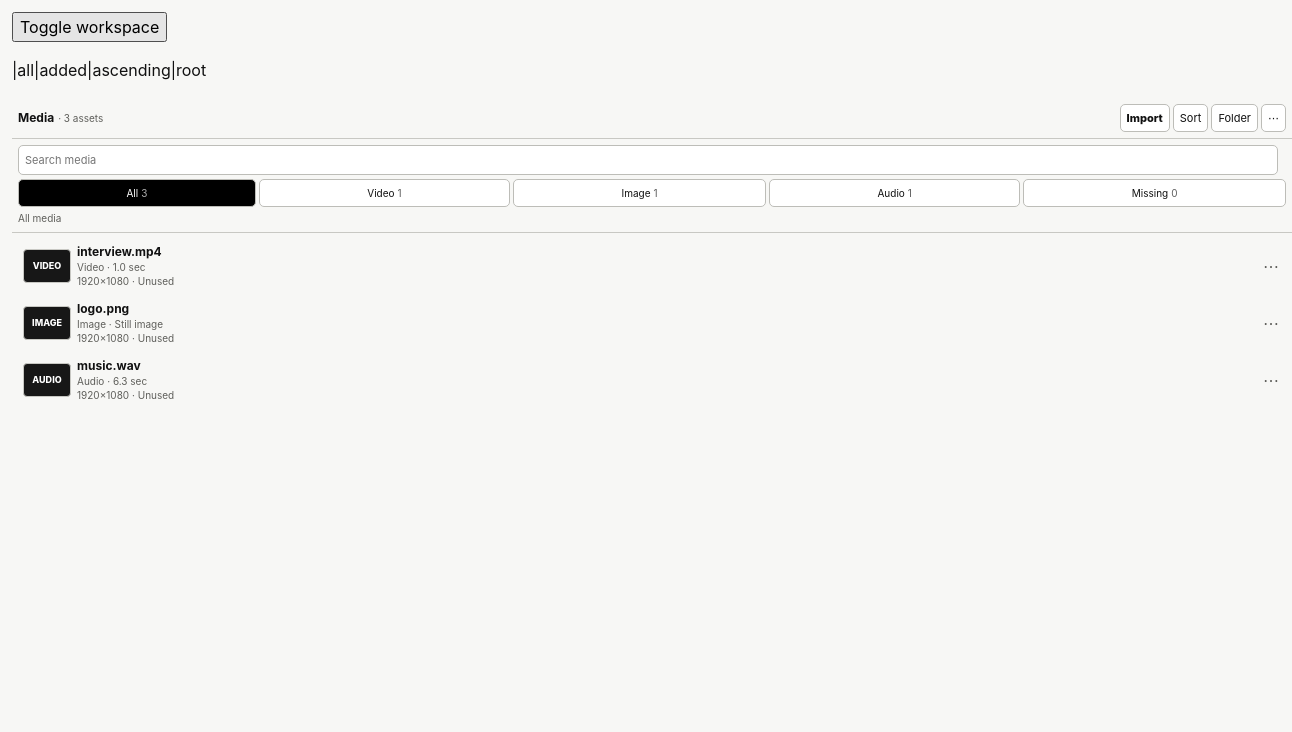
it: Media Library V2 — asset rows › offers only actions that do something, and explains the one that cannot
Right-click the button with aria-label "music.wav, Audio" at (47, 380), box left=19, top=354, right=1257, bottom=406
(page scrolled)
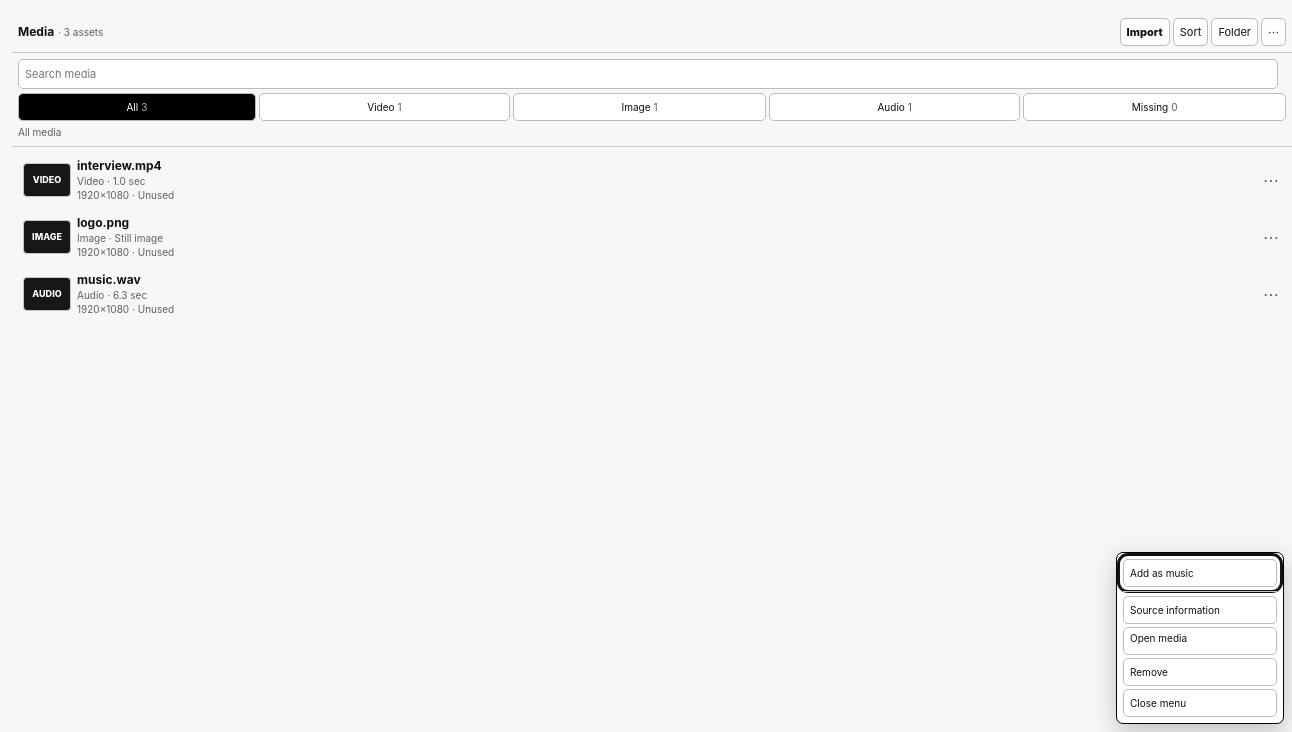
Check: the menu named "music.wav actions" shows "Add as music", box left=1123, top=559, right=1277, bottom=587
Check: the menu named "music.wav actions" shows "Source information", box left=1123, top=596, right=1277, bottom=624
Check: the menu item "Remove" is disabled, box left=1123, top=658, right=1277, bottom=686
